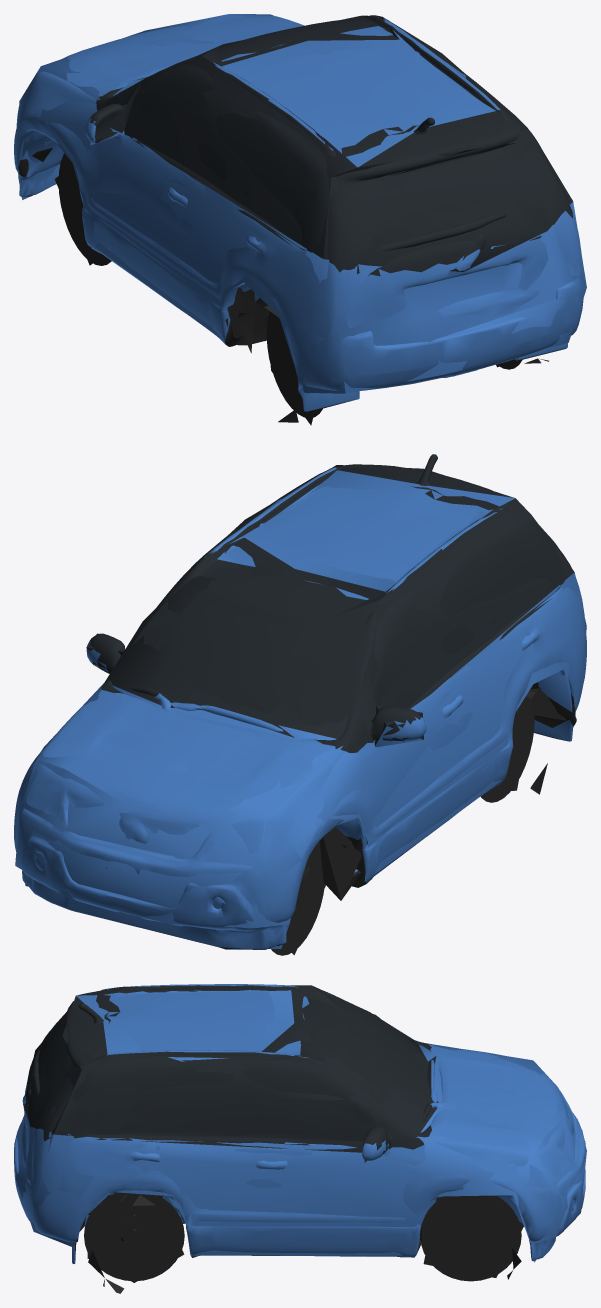
The model's file is suzuki-grand-vitara.glb.
3 views of the same model, one above another, from view 1: azimuth 30°, elevation 25°; view 2: azimuth 150°, elevation 25°; view 3: azimuth 270°, elevation 25° (orthographic). The views are drawn at different scales.
Visible parts, largest first — view 1: body, far; view 2: body, far; view 3: body, far.
Part boxes in pixels (bbox=[...]): body: bbox=[14, 15, 583, 422]; far: bbox=[18, 14, 586, 425]; body: bbox=[14, 454, 586, 955]; far: bbox=[15, 465, 586, 955]; body: bbox=[14, 984, 585, 1293]; far: bbox=[16, 985, 586, 1282].
Bounding box in the file's own units: 2.47 × 2.11 × 4.52.
